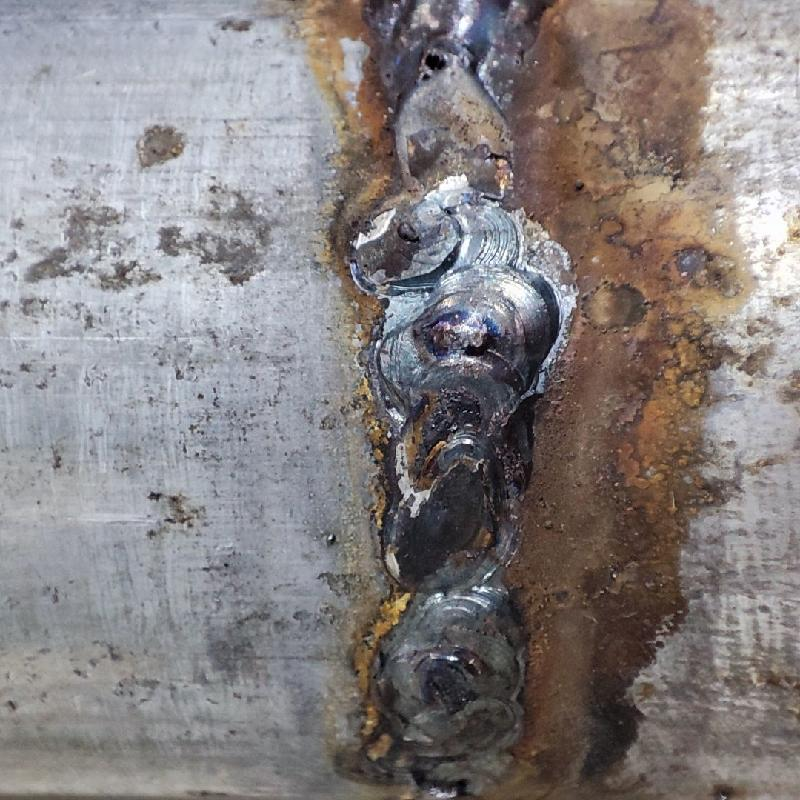Not_fully_soldered: (368, 50, 537, 260)
Surface_pores: (403, 34, 470, 89)
Weld: (346, 0, 544, 71)
